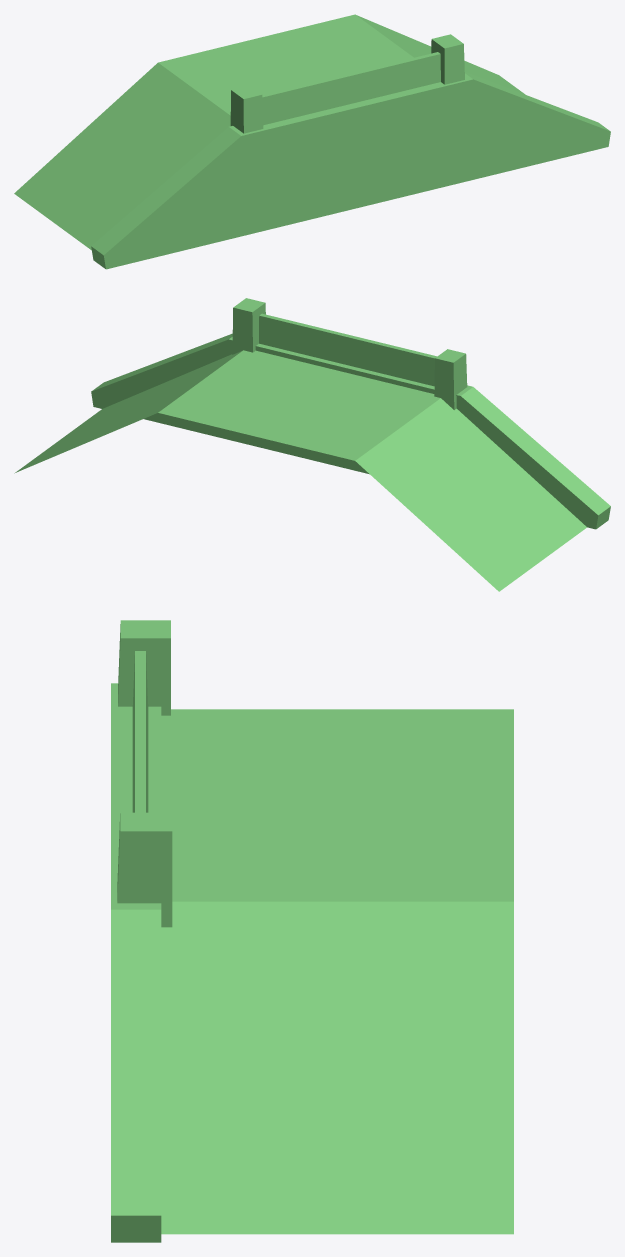
The model's file is Bld3_Base_Staircase_B_COL.fbx.
3 views of the same model, one above another, from view 1: azimuth 30°, elevation 25°; view 2: azimuth 150°, elevation 25°; view 3: azimuth 270°, elevation 25° (orthographic). The views are drawn at different scales.
Visible parts, largest first — view 1: Bld3_Base_Staircase_B_COL; view 2: Bld3_Base_Staircase_B_COL; view 3: Bld3_Base_Staircase_B_COL.
Part boxes in pixels (box(x1,y1,x2,y2)): Bld3_Base_Staircase_B_COL: box(14, 14, 610, 269); Bld3_Base_Staircase_B_COL: box(14, 298, 610, 591); Bld3_Base_Staircase_B_COL: box(111, 620, 513, 1242).
Size of the model in its own units: 872 by 224 by 300.
